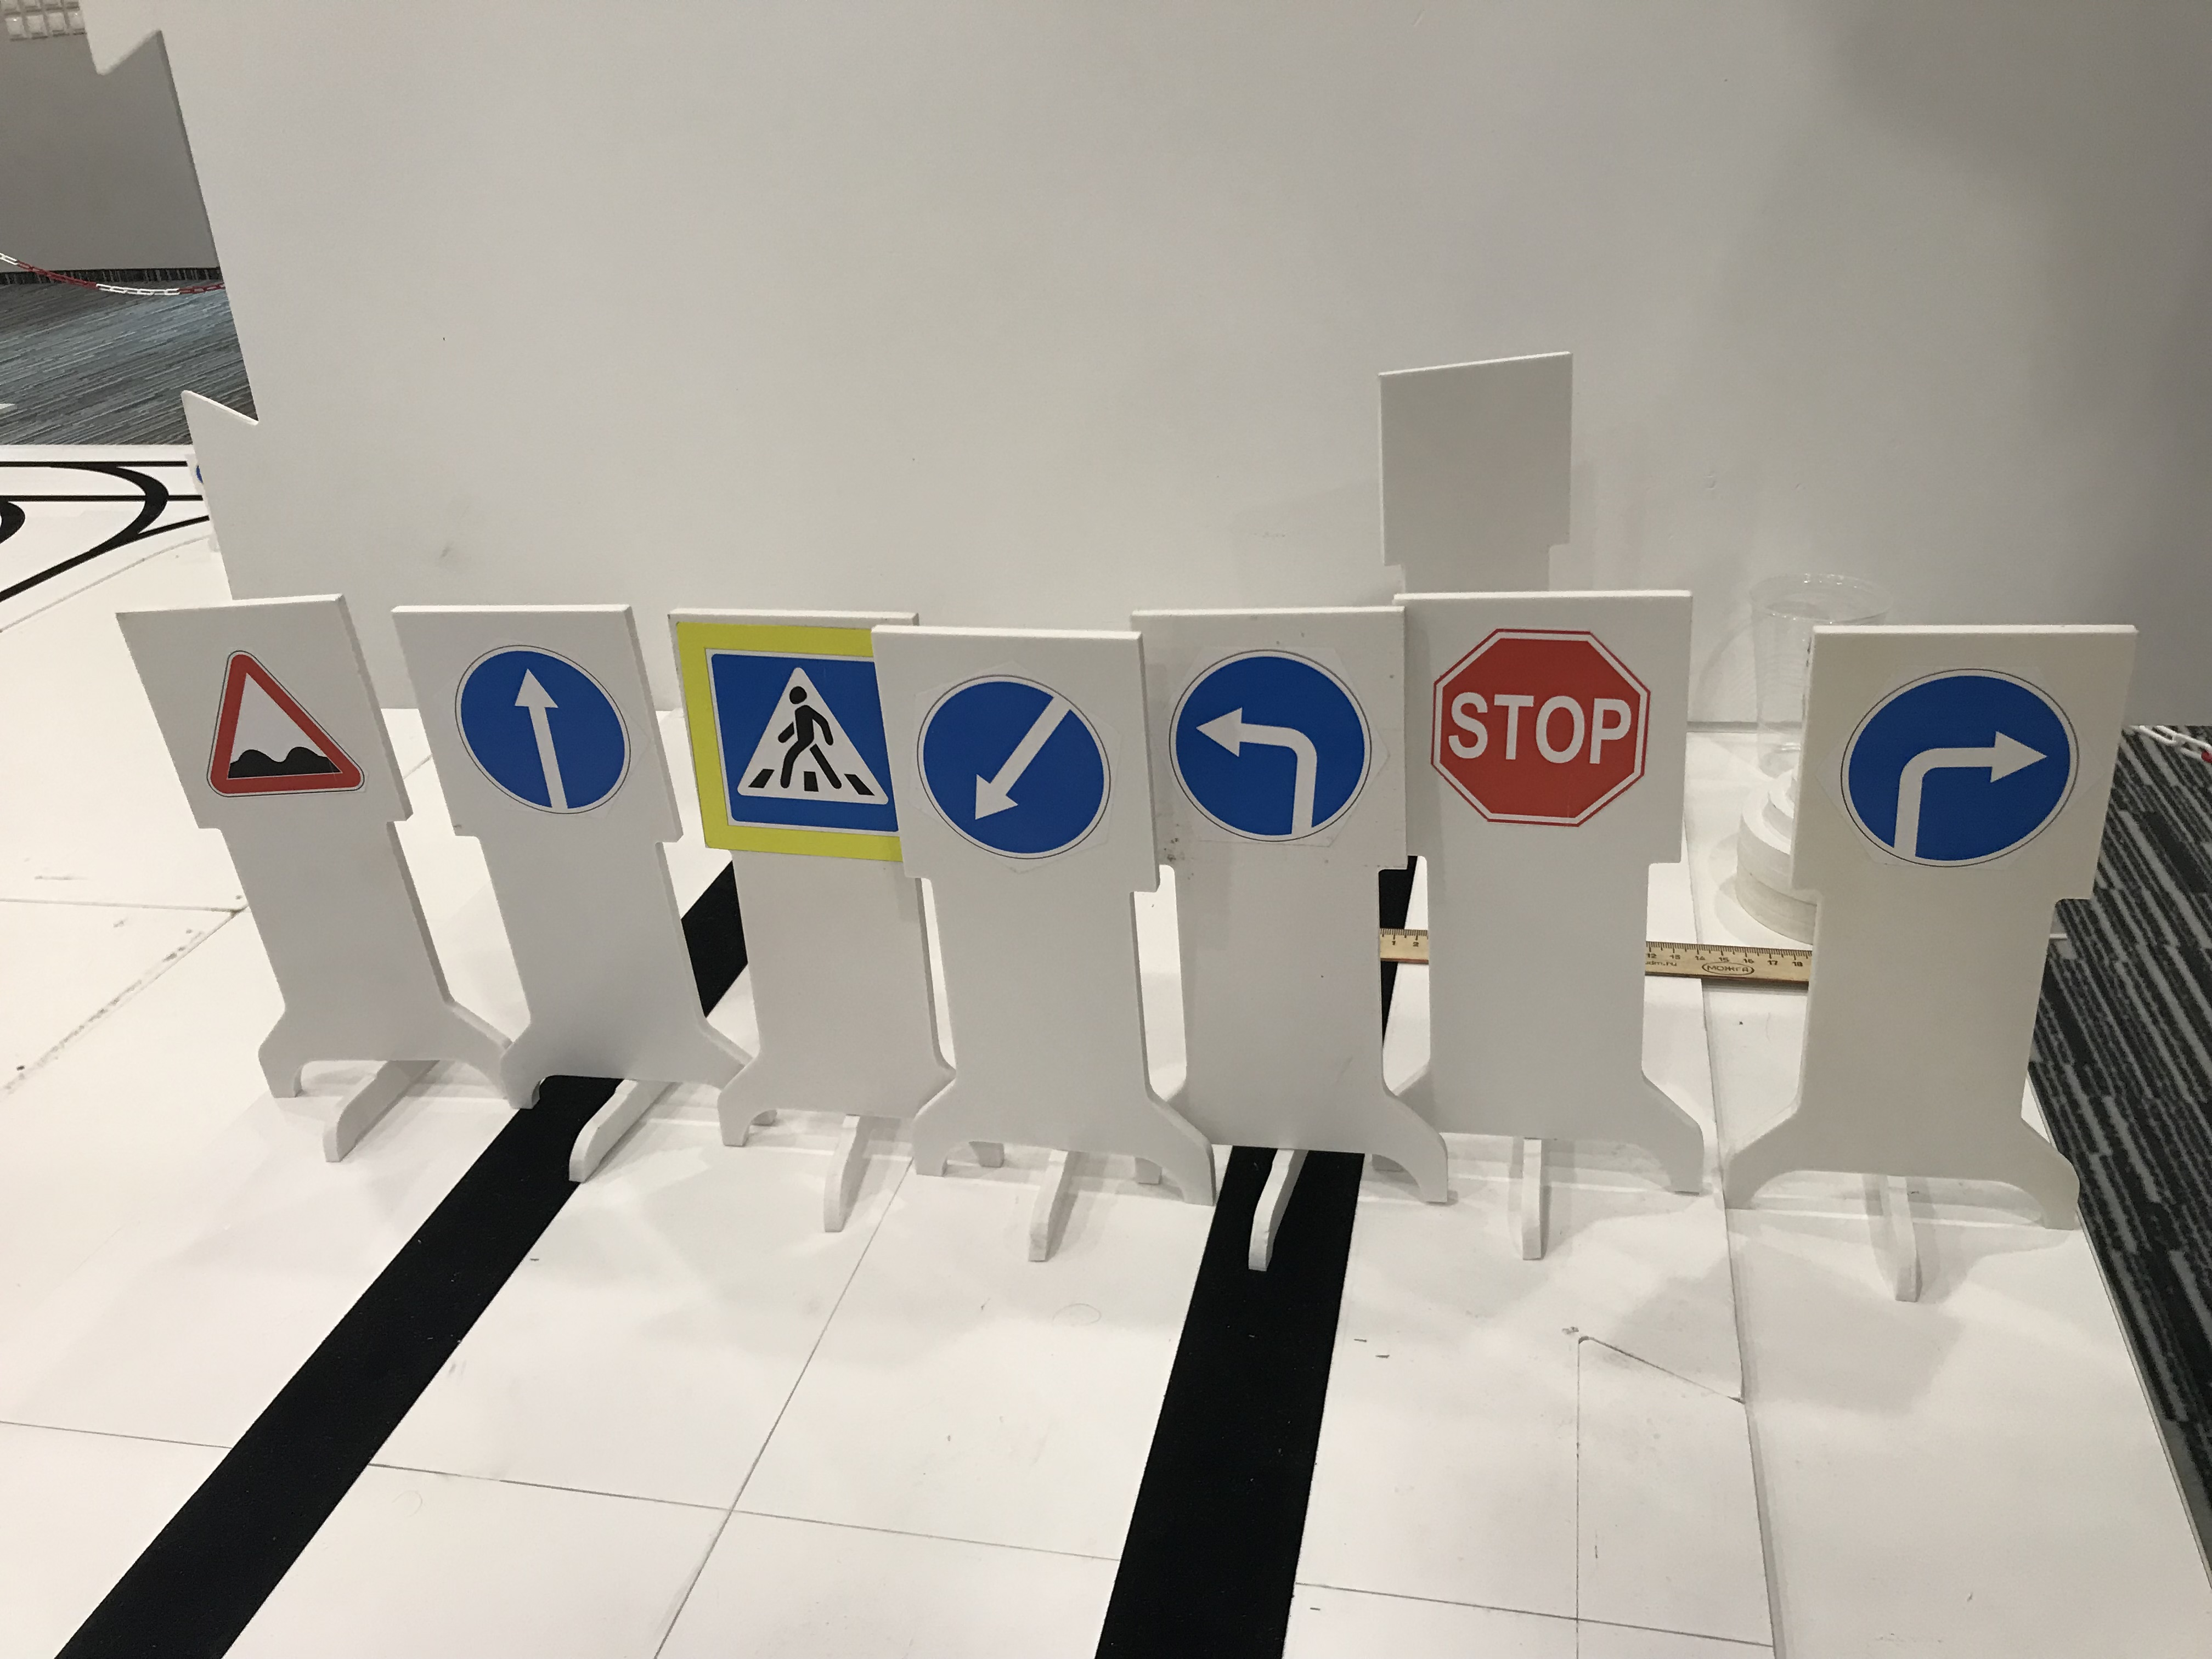Left: (1167, 648, 1371, 840)
Nerov: (195, 647, 369, 807)
Right: (1838, 667, 2083, 864)
Stop: (1416, 622, 1663, 835)
forw: (448, 650, 632, 821)
pesh: (693, 613, 902, 856)
prep: (914, 673, 1116, 856)
